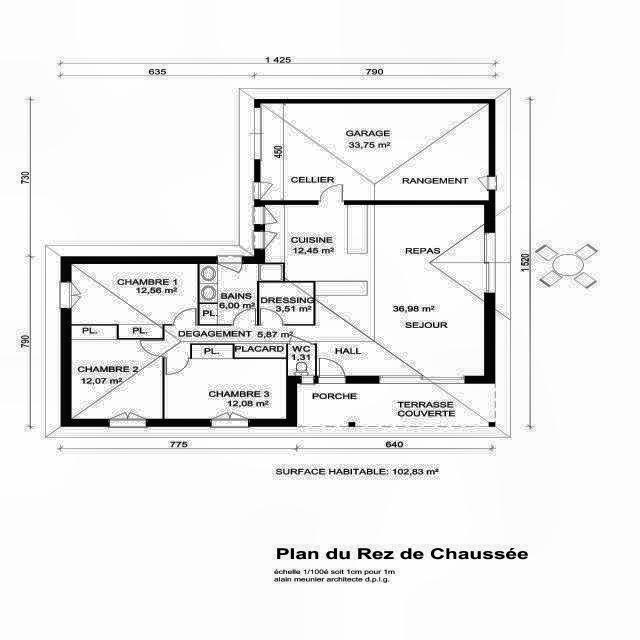room: (164, 205, 484, 376), (261, 104, 489, 200), (71, 264, 198, 338), (165, 345, 286, 419), (71, 325, 163, 419), (199, 264, 283, 324), (259, 282, 314, 324), (288, 345, 315, 376)
